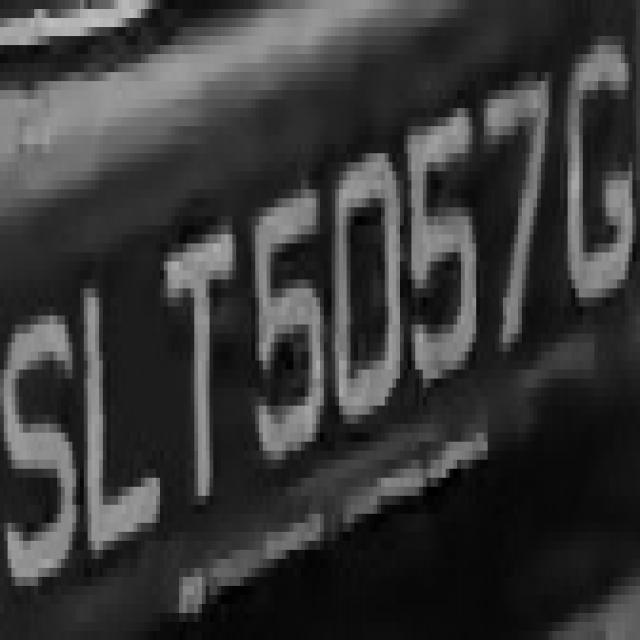0: (328, 144, 412, 433)
5: (392, 99, 488, 406), (244, 162, 331, 478)
7: (468, 63, 552, 388)
G: (556, 36, 640, 334)
L: (76, 243, 160, 568)
S: (12, 270, 76, 604)
T: (156, 207, 244, 541)
